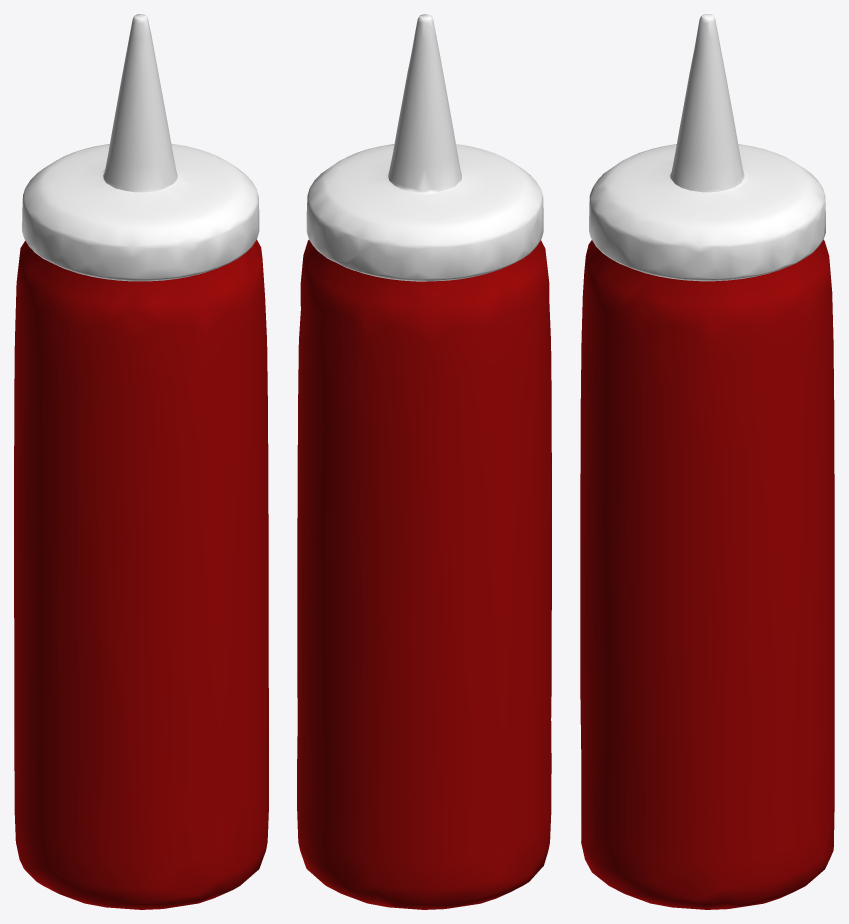
Rendered from saucebottle.fbx.
3 views of the same model, side by side, from view 1: azimuth 30°, elevation 25°; view 2: azimuth 150°, elevation 25°; view 3: azimuth 270°, elevation 25° (orthographic).
Parts seen in each view (by area): view 1: sauce_bottle; view 2: sauce_bottle; view 3: sauce_bottle.
Part boxes in pixels (bbox=[...]): sauce_bottle: bbox=[14, 14, 268, 909]; sauce_bottle: bbox=[297, 14, 551, 909]; sauce_bottle: bbox=[580, 14, 834, 909].
Size of the model in its own units: 12.34 by 45.69 by 12.33.
